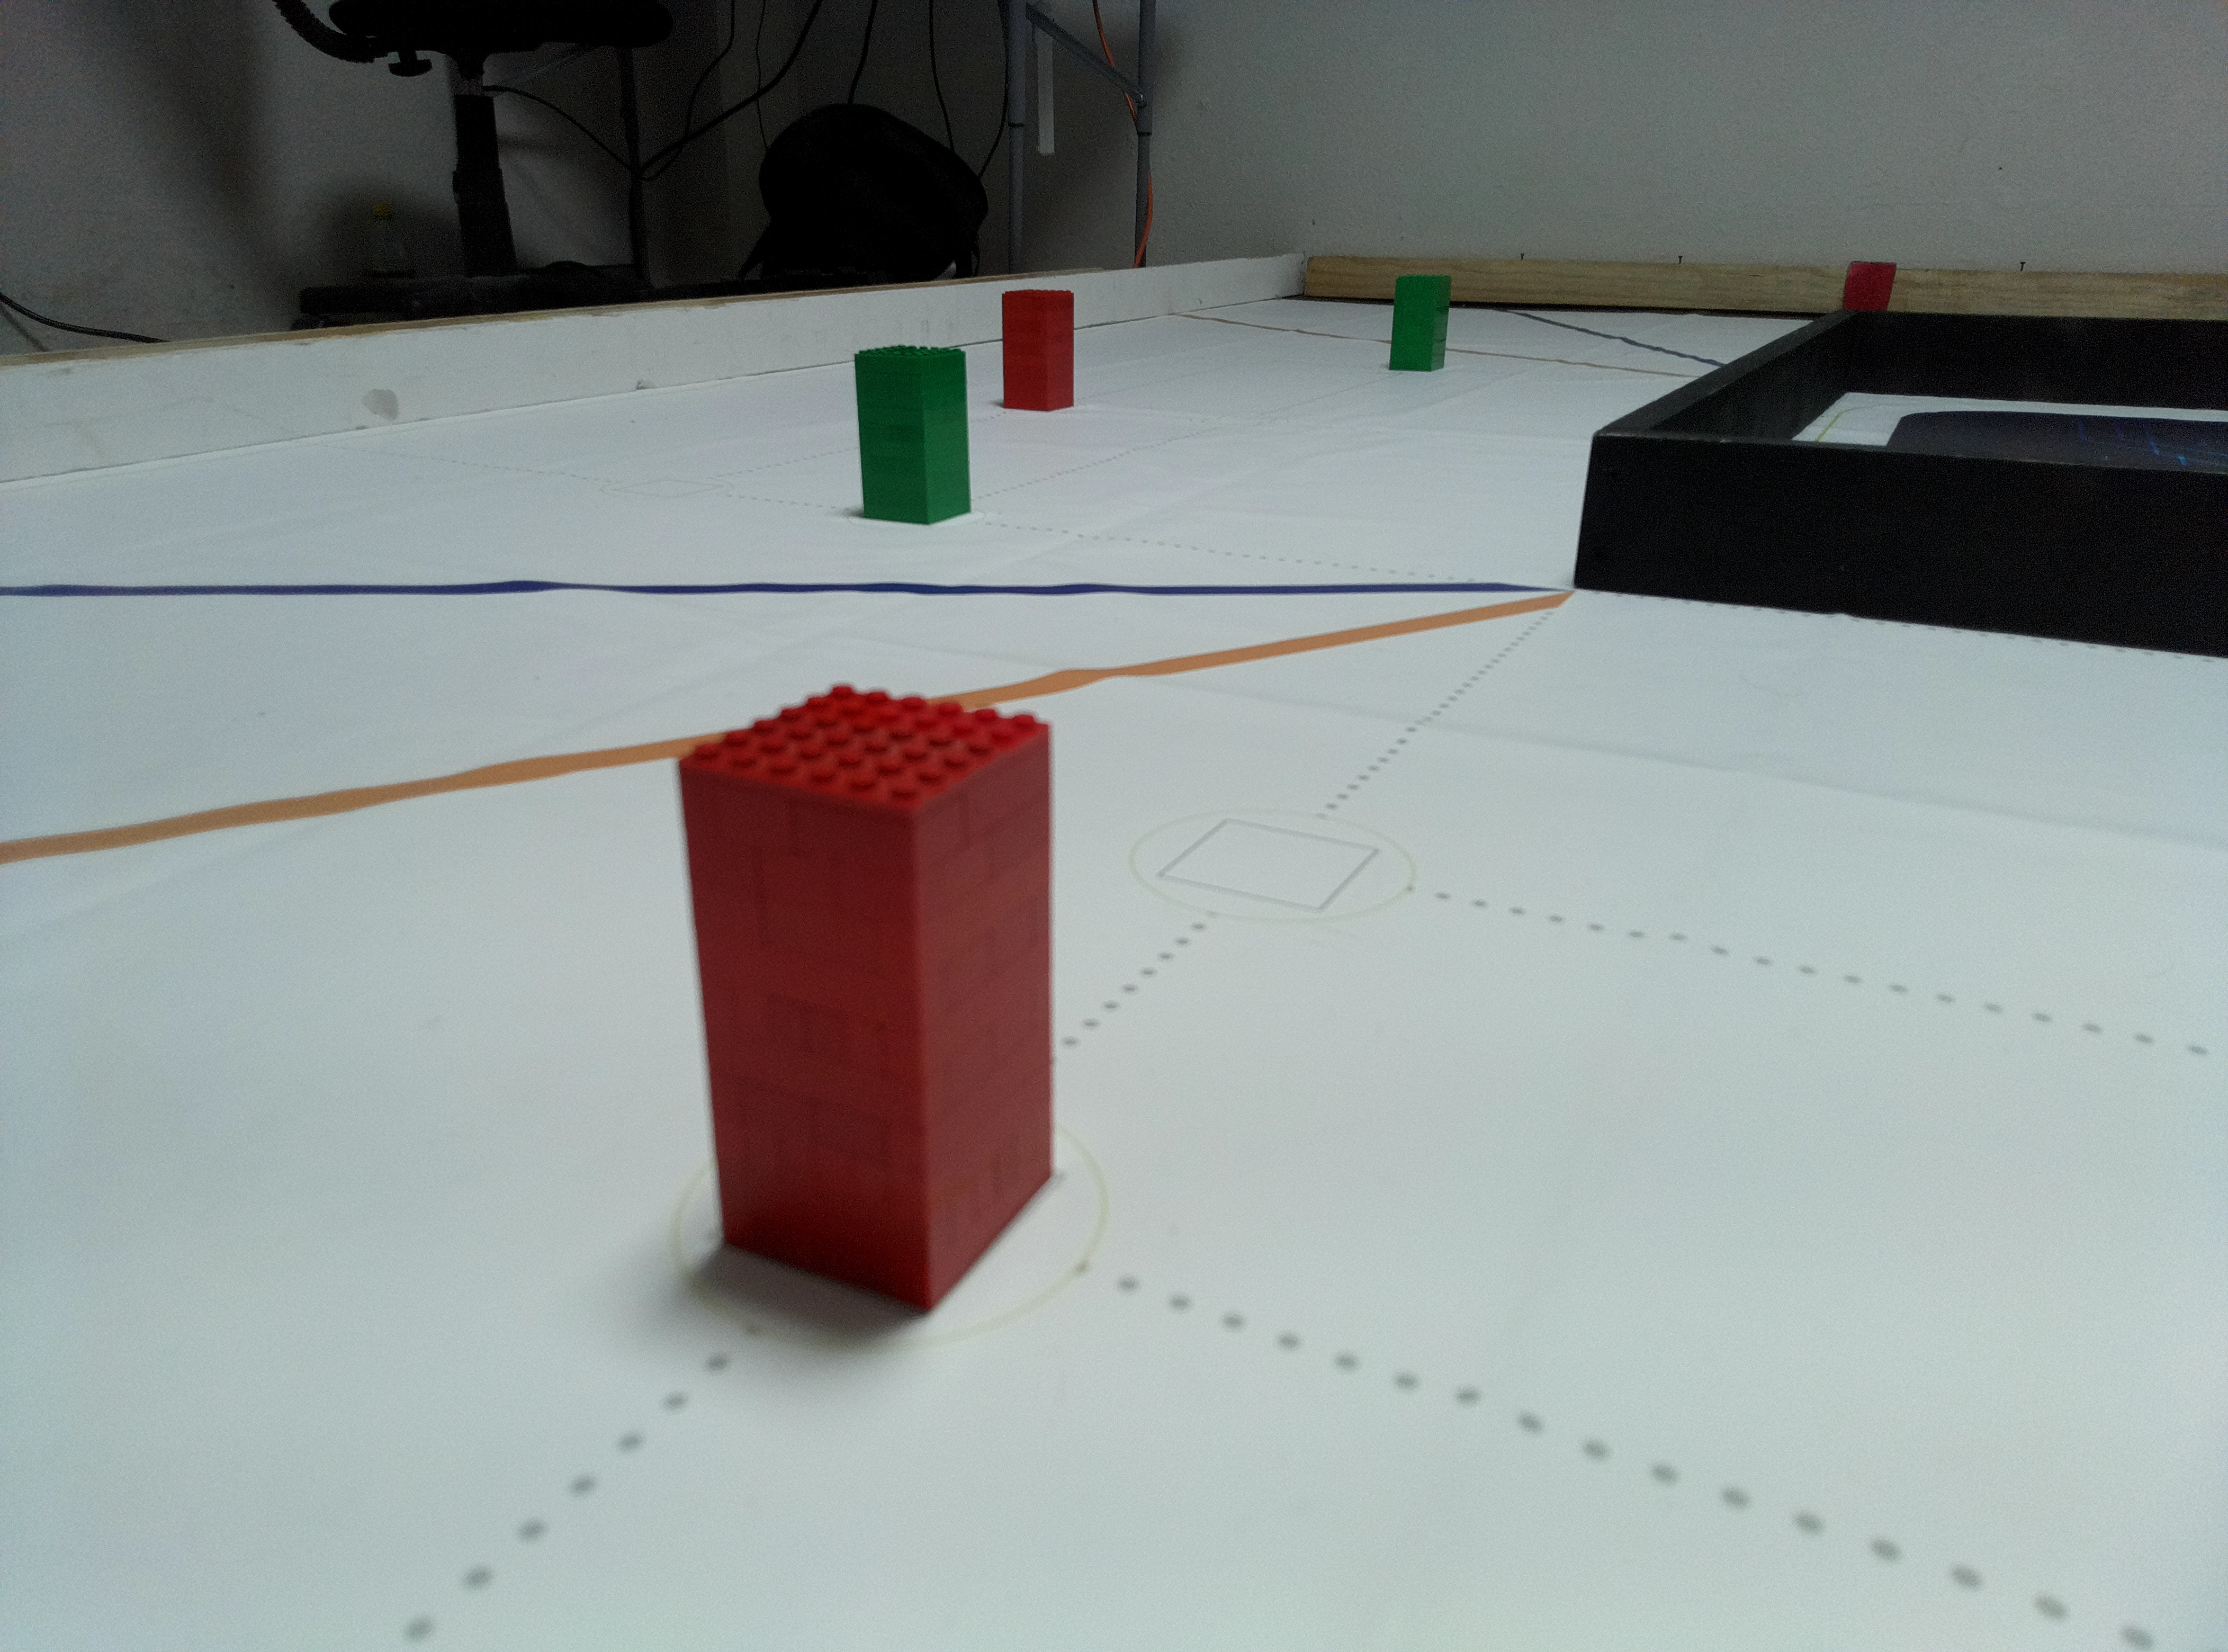greenbox: (852, 342, 972, 526), (1388, 272, 1454, 373)
redbox: (678, 678, 1062, 1324), (999, 290, 1076, 411), (1841, 260, 1898, 309)
